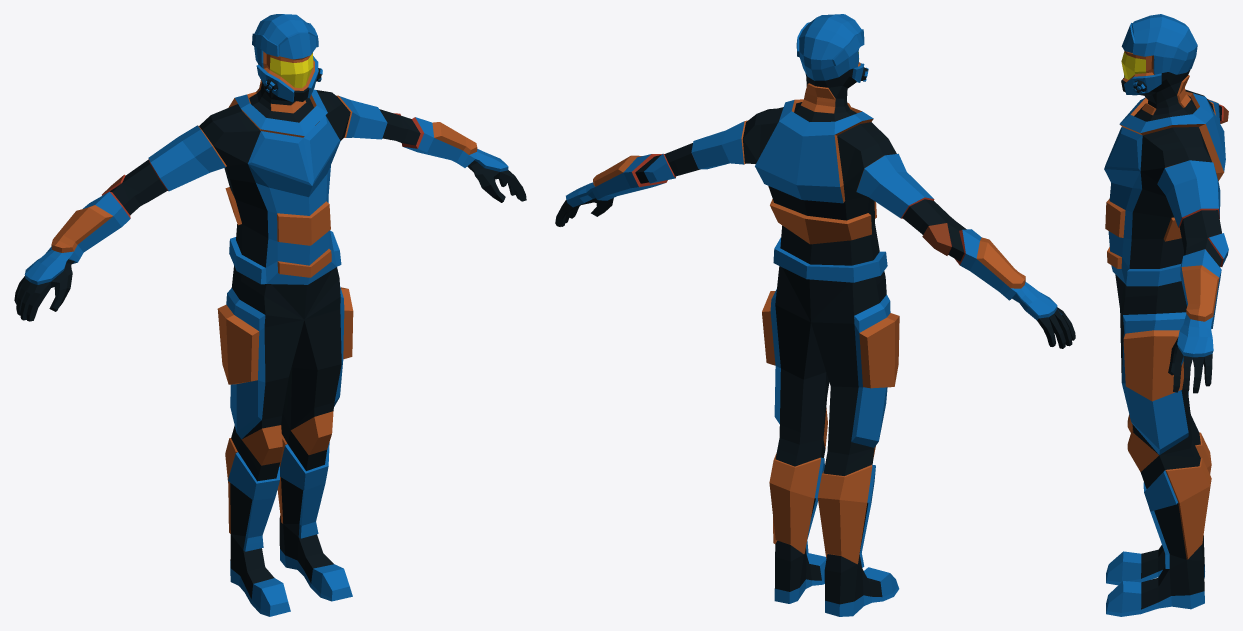
The model's file is textured low poly soldier.fbx.
3 views of the same model, side by side, from view 1: azimuth 30°, elevation 25°; view 2: azimuth 150°, elevation 25°; view 3: azimuth 270°, elevation 25° (orthographic).
Visible parts, largest first — view 1: Cube_005; view 2: Cube_005; view 3: Cube_005.
Boxes of the visible parts, x1,y1,x2,y2 form: Cube_005: (14, 14, 526, 616); Cube_005: (555, 14, 1075, 616); Cube_005: (1104, 14, 1228, 616).
Bounding box in the file's own units: 138 × 151 × 29.62.
Materials: 1 (1 with a texture image).
